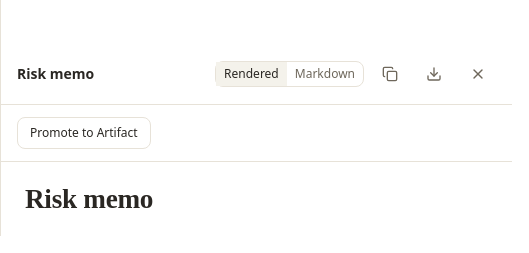
CanvasPane download › offers all three formats
Click the button named "Download" at (434, 74), box [416,56,452,92]
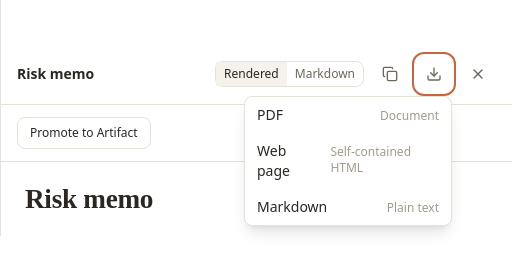
expect the link "PDF Document" is shown: met, box [257,105,439,124]
expect the link "Web page Self-contained HTML" is shown: met, box [257,141,411,180]
expect the link "Markdown Plain text" is shown: met, box [257,197,439,216]
